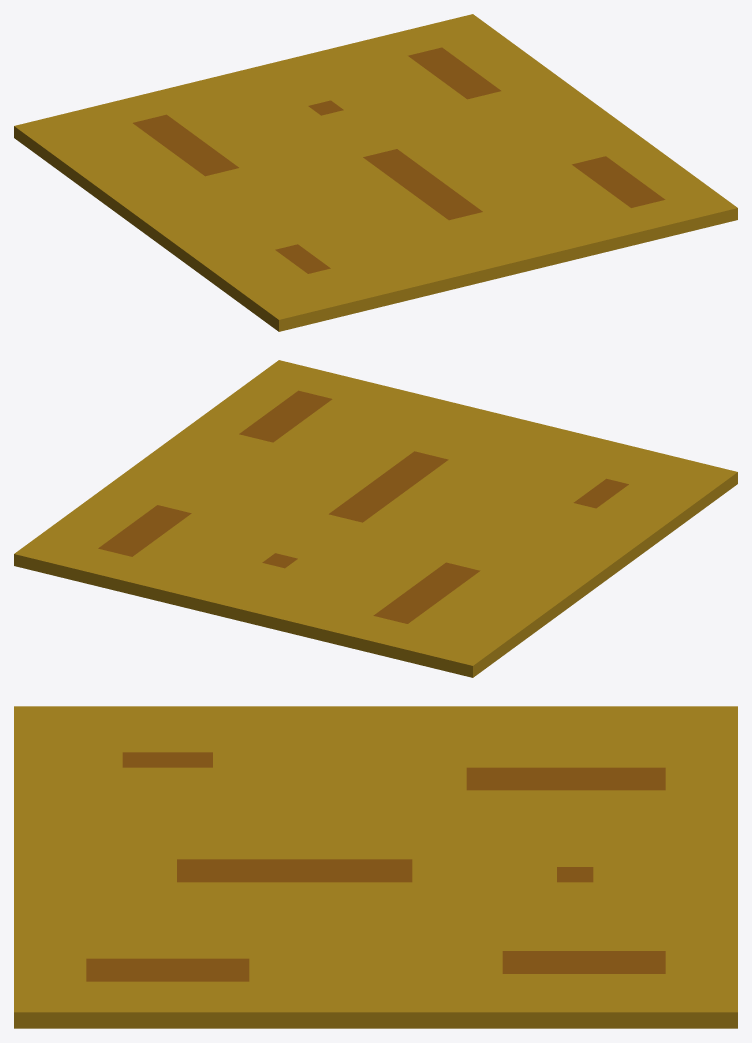
Rendered from floor_3.obj.
The picture shows the model from 3 angles, top to bottom: view 1: azimuth 30°, elevation 25°; view 2: azimuth 150°, elevation 25°; view 3: azimuth 270°, elevation 25°; orthographic projection. The views are drawn at different scales.
Bounding box in the file's own units: 40 × 1 × 40.
1 material, 1 textured.
